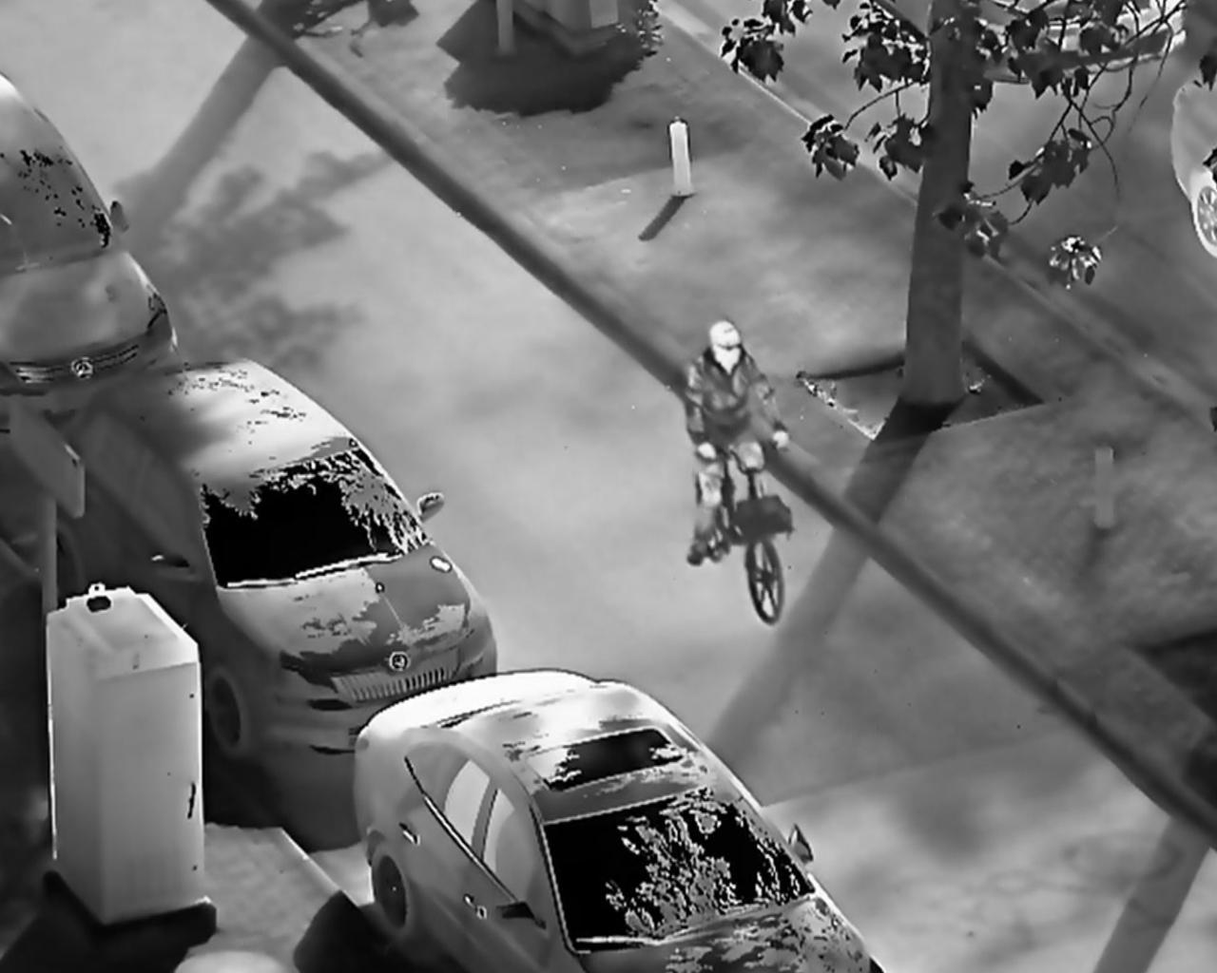person: (683, 317, 794, 563)
